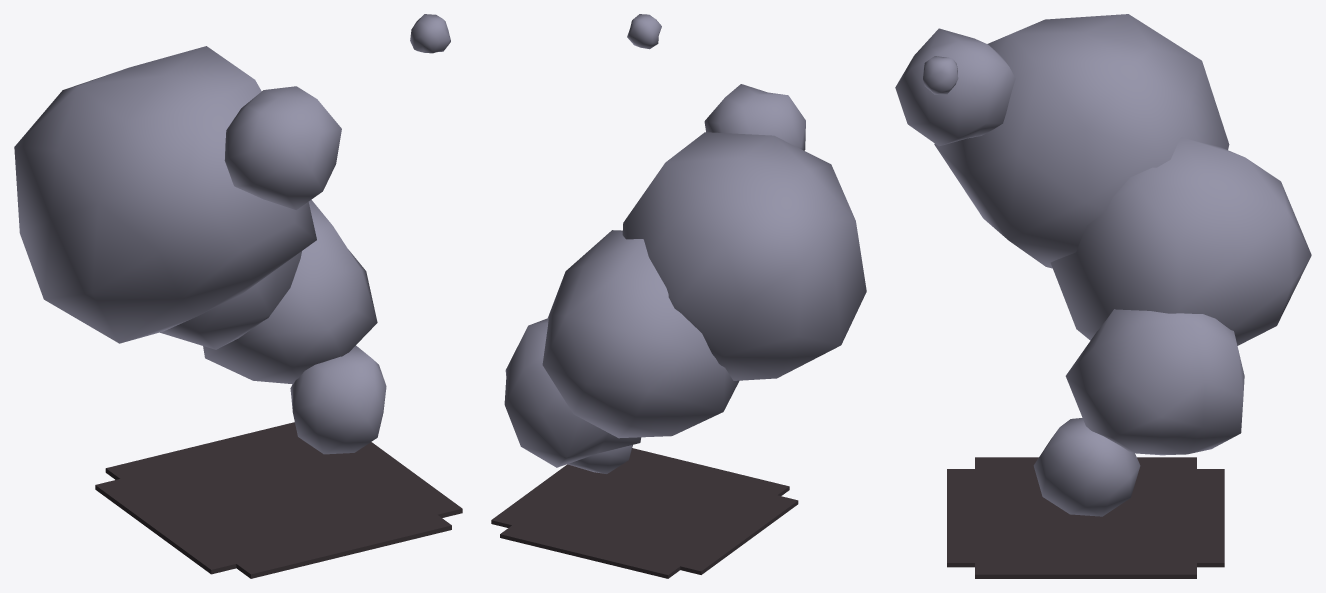
Rendered from smoke-puff-pixor-blocky.glb.
3 views of the same model, side by side, from view 1: azimuth 30°, elevation 25°; view 2: azimuth 150°, elevation 25°; view 3: azimuth 270°, elevation 25° (orthographic). The views are drawn at different scales.
Visible parts, largest first — view 1: Smoke, Smoke scorch; view 2: Smoke, Smoke scorch; view 3: Smoke, Smoke scorch.
Boxes of the visible parts, x1,y1,x2,y2 form: Smoke: (14, 14, 450, 454); Smoke scorch: (95, 422, 462, 578); Smoke: (504, 14, 866, 473); Smoke scorch: (491, 448, 798, 578); Smoke: (895, 14, 1311, 516); Smoke scorch: (947, 457, 1224, 578).
Bounding box in the file's own units: 0.8346 × 1.15 × 0.8696.
